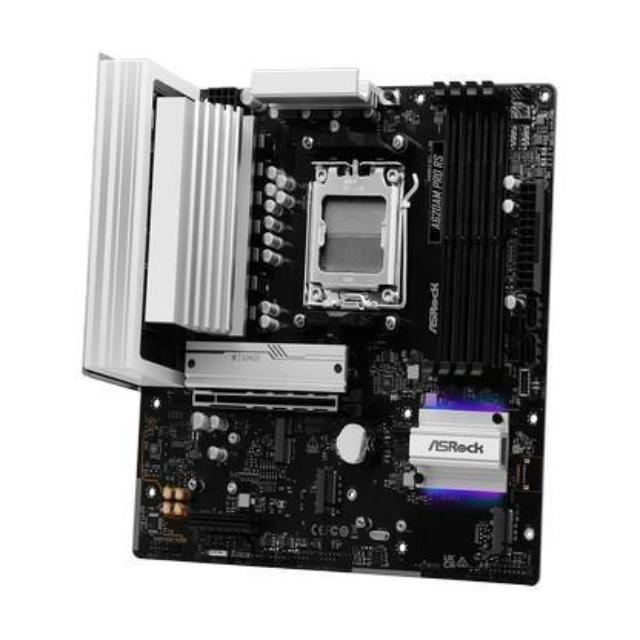Mainboard: (76, 54, 564, 591)
